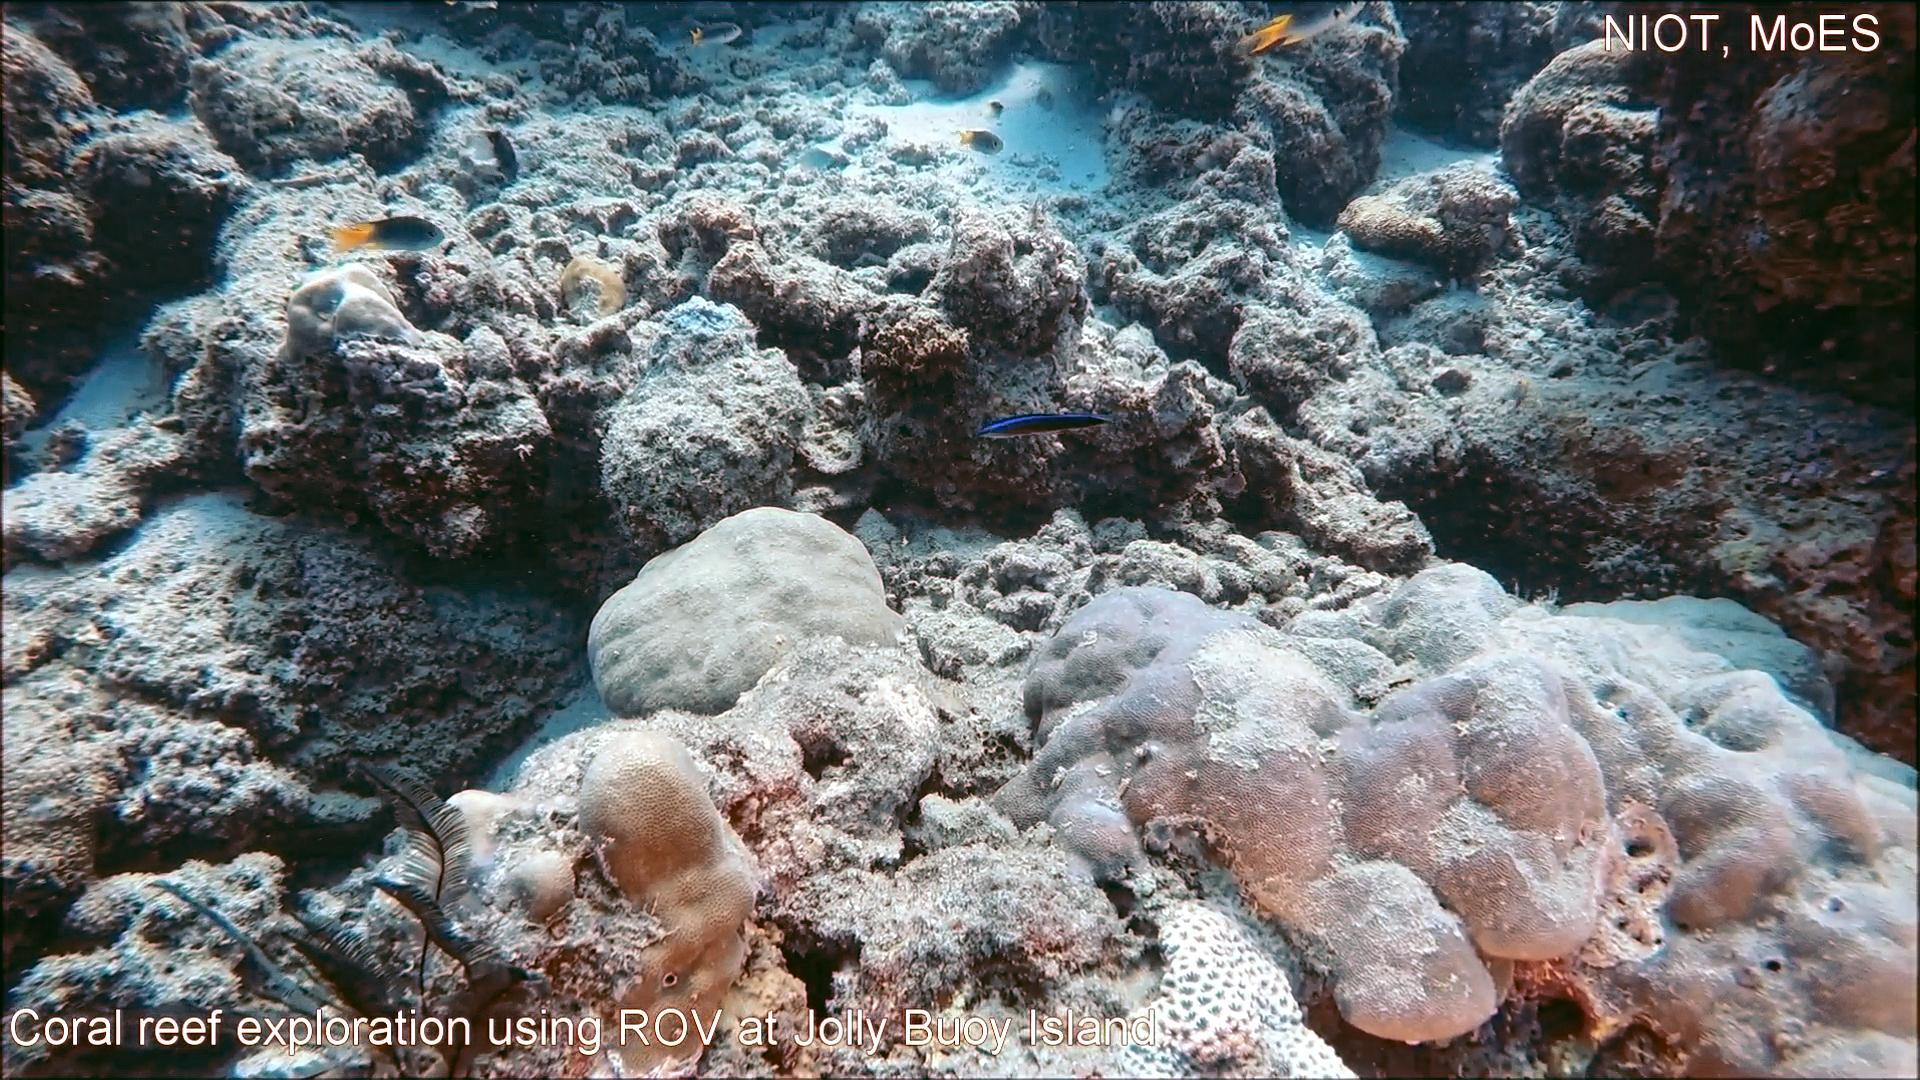Feather star-Crinoid star: (0, 731, 571, 1080)
Goniastrea-Goniastrea pectinata: (1095, 885, 1374, 1080)
Porites-Porites pukoensis: (1458, 553, 1920, 1080)
